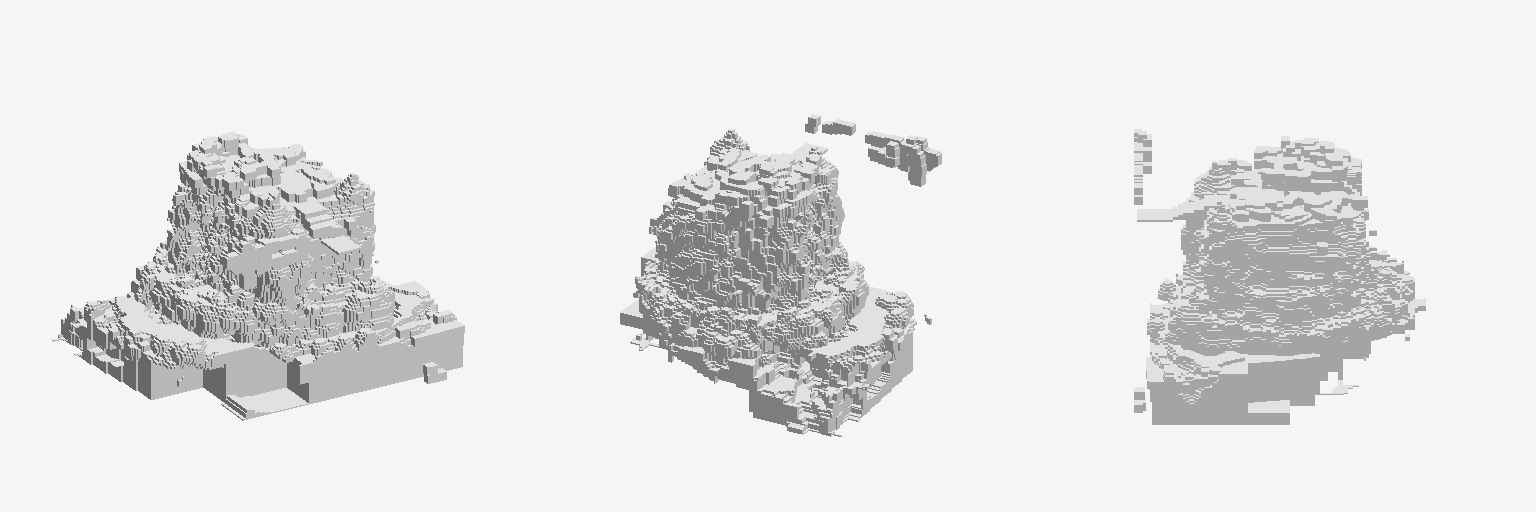
File: Lava_stuff-4.obj
The picture shows the model from 3 angles: view 1: azimuth 30°, elevation 25°; view 2: azimuth 150°, elevation 25°; view 3: azimuth 270°, elevation 25°; orthographic projection.
Parts seen in each view (by area): view 1: object 1; view 2: object 1; view 3: object 1.
Boxes of the visible parts, x1,y1,x2,y2 form: object 1: [52, 132, 464, 420]; object 1: [620, 114, 941, 436]; object 1: [1134, 129, 1425, 424].
Bounding box in the file's own units: 25.6 × 17 × 22.6.